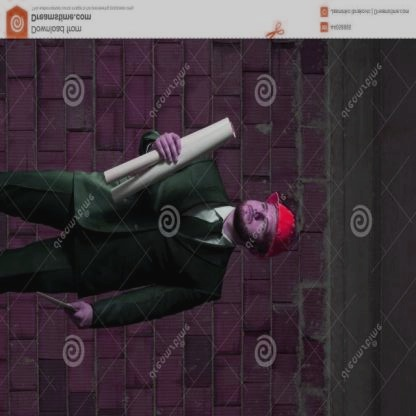yellow: (263, 186, 298, 266)
